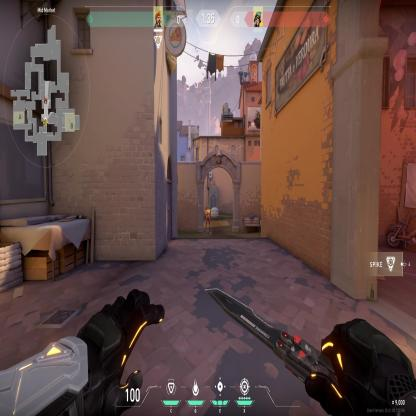enemy: (204, 203, 212, 234)
